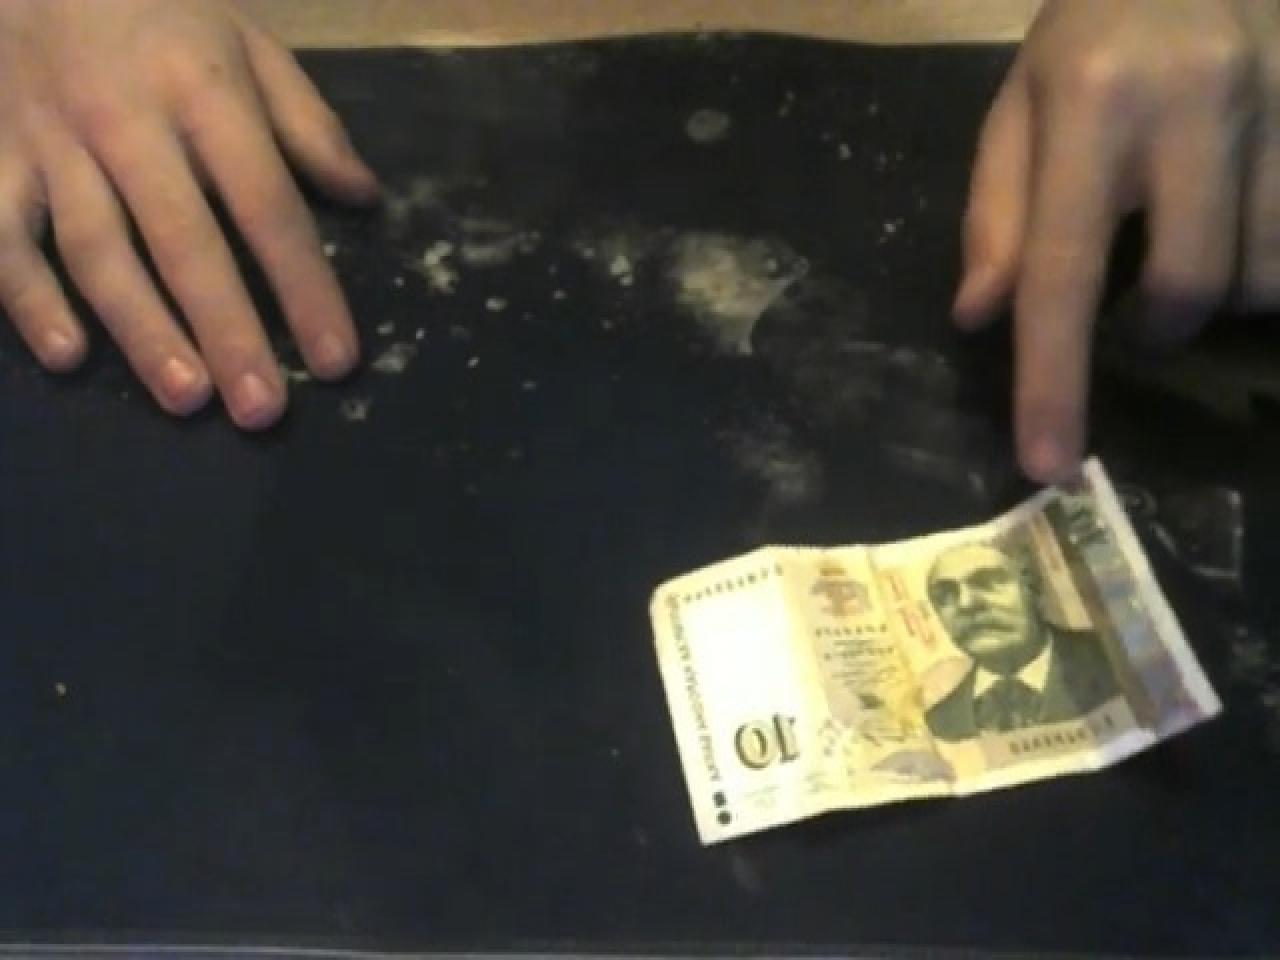10leva: (918, 529, 1136, 746), (733, 689, 834, 770)
